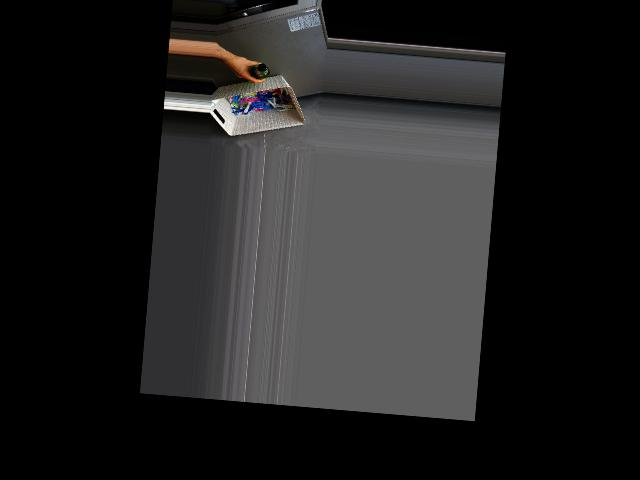beer: (249, 62, 270, 79)
